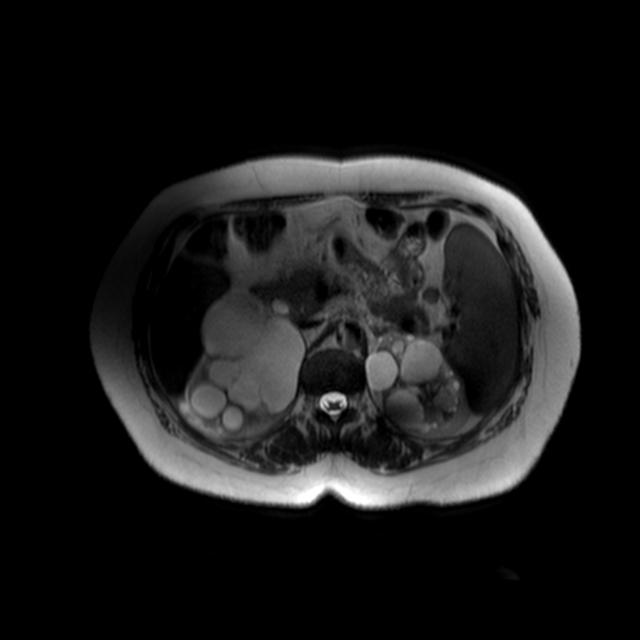sag: (182, 286, 306, 438)
sol: (367, 328, 471, 440)
